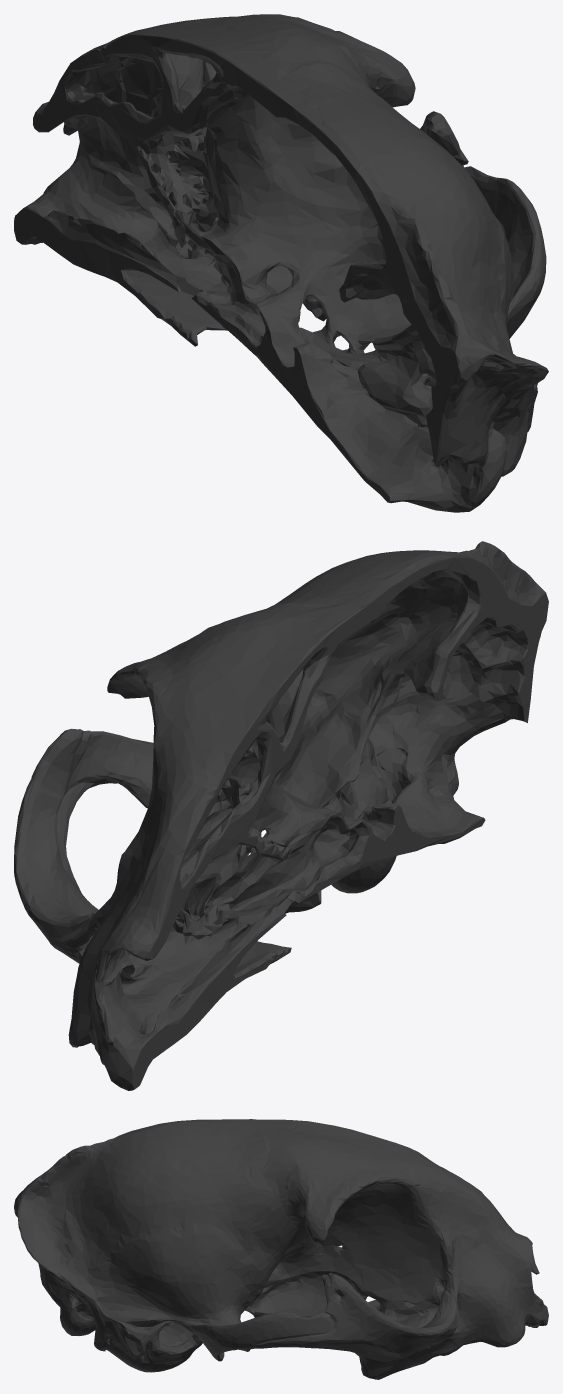
The model's file is Maxilla_clean_voids_fill_fine.glb.
3 views of the same model, one above another, from view 1: azimuth 30°, elevation 25°; view 2: azimuth 150°, elevation 25°; view 3: azimuth 270°, elevation 25° (orthographic). The views are drawn at different scales.
Parts seen in each view (by area): view 1: Maxilla_clean_voids_fill_fine; view 2: Maxilla_clean_voids_fill_fine; view 3: Maxilla_clean_voids_fill_fine.
Part boxes in pixels (<box>): Maxilla_clean_voids_fill_fine: <box>14,14,548,512</box>; Maxilla_clean_voids_fill_fine: <box>14,541,548,1090</box>; Maxilla_clean_voids_fill_fine: <box>14,1119,548,1379</box>.
Bounding box in the file's own units: 0.346 × 0.4294 × 0.9258.
1 material, 1 textured.
